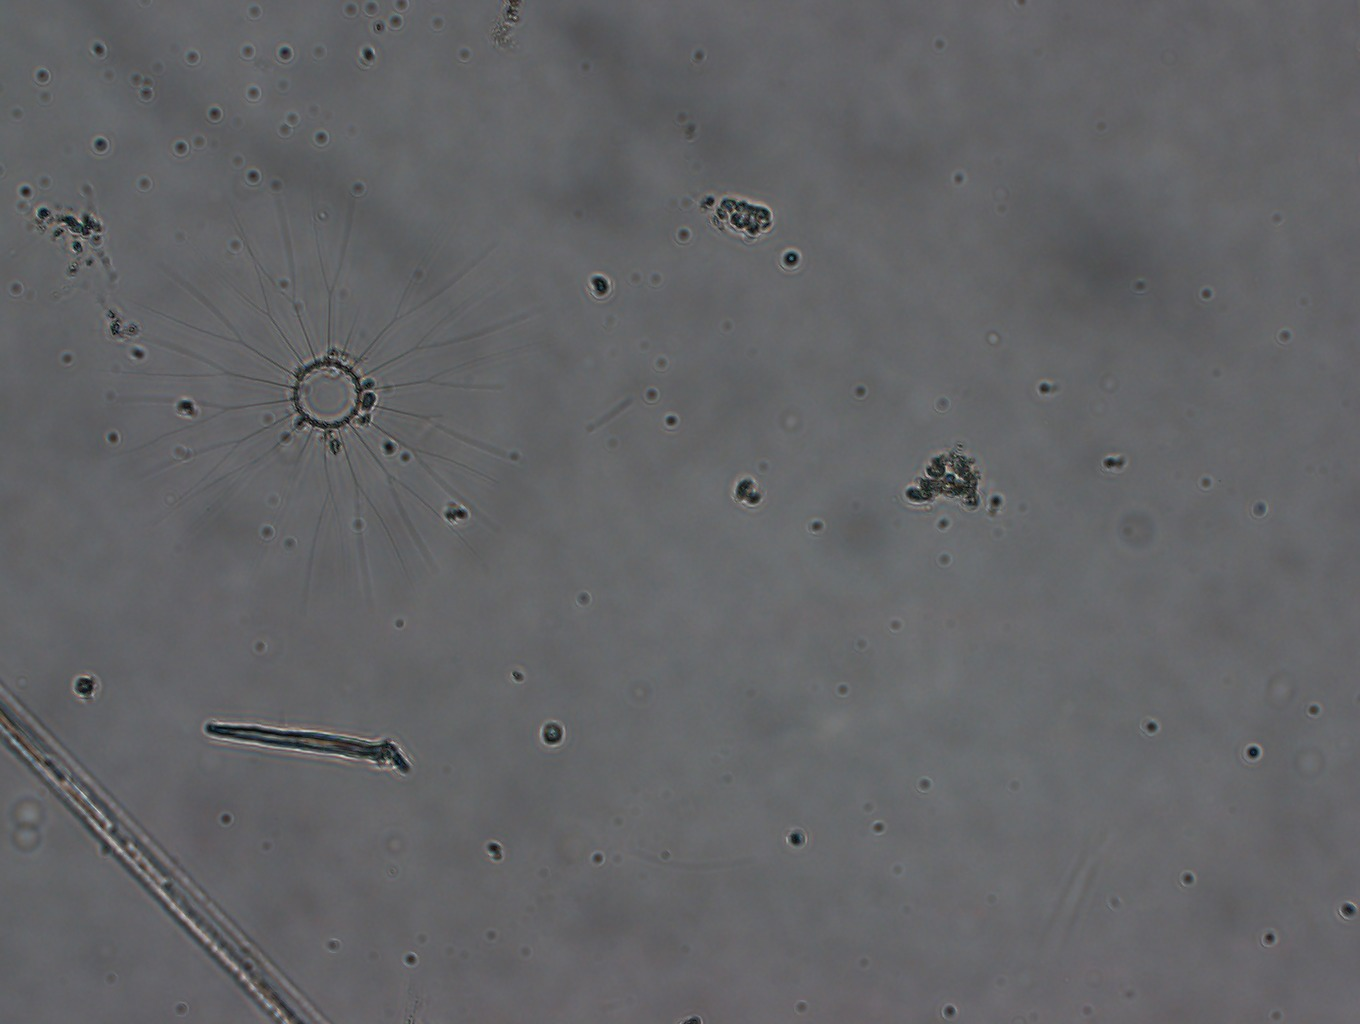bacteriastrum: (124, 174, 545, 622)
